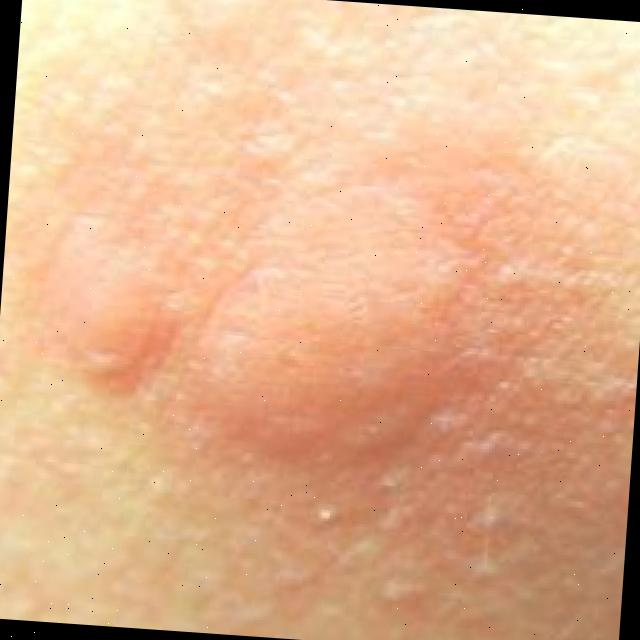sinek: (34, 84, 543, 549)
